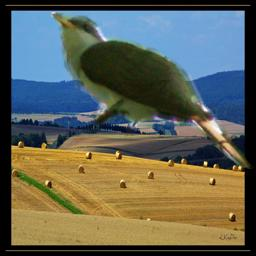Cuckoo: (47, 12, 254, 169)
